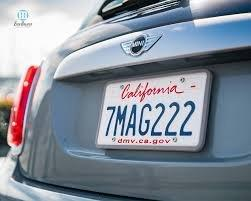Liscence Plate: (103, 83, 204, 149)
